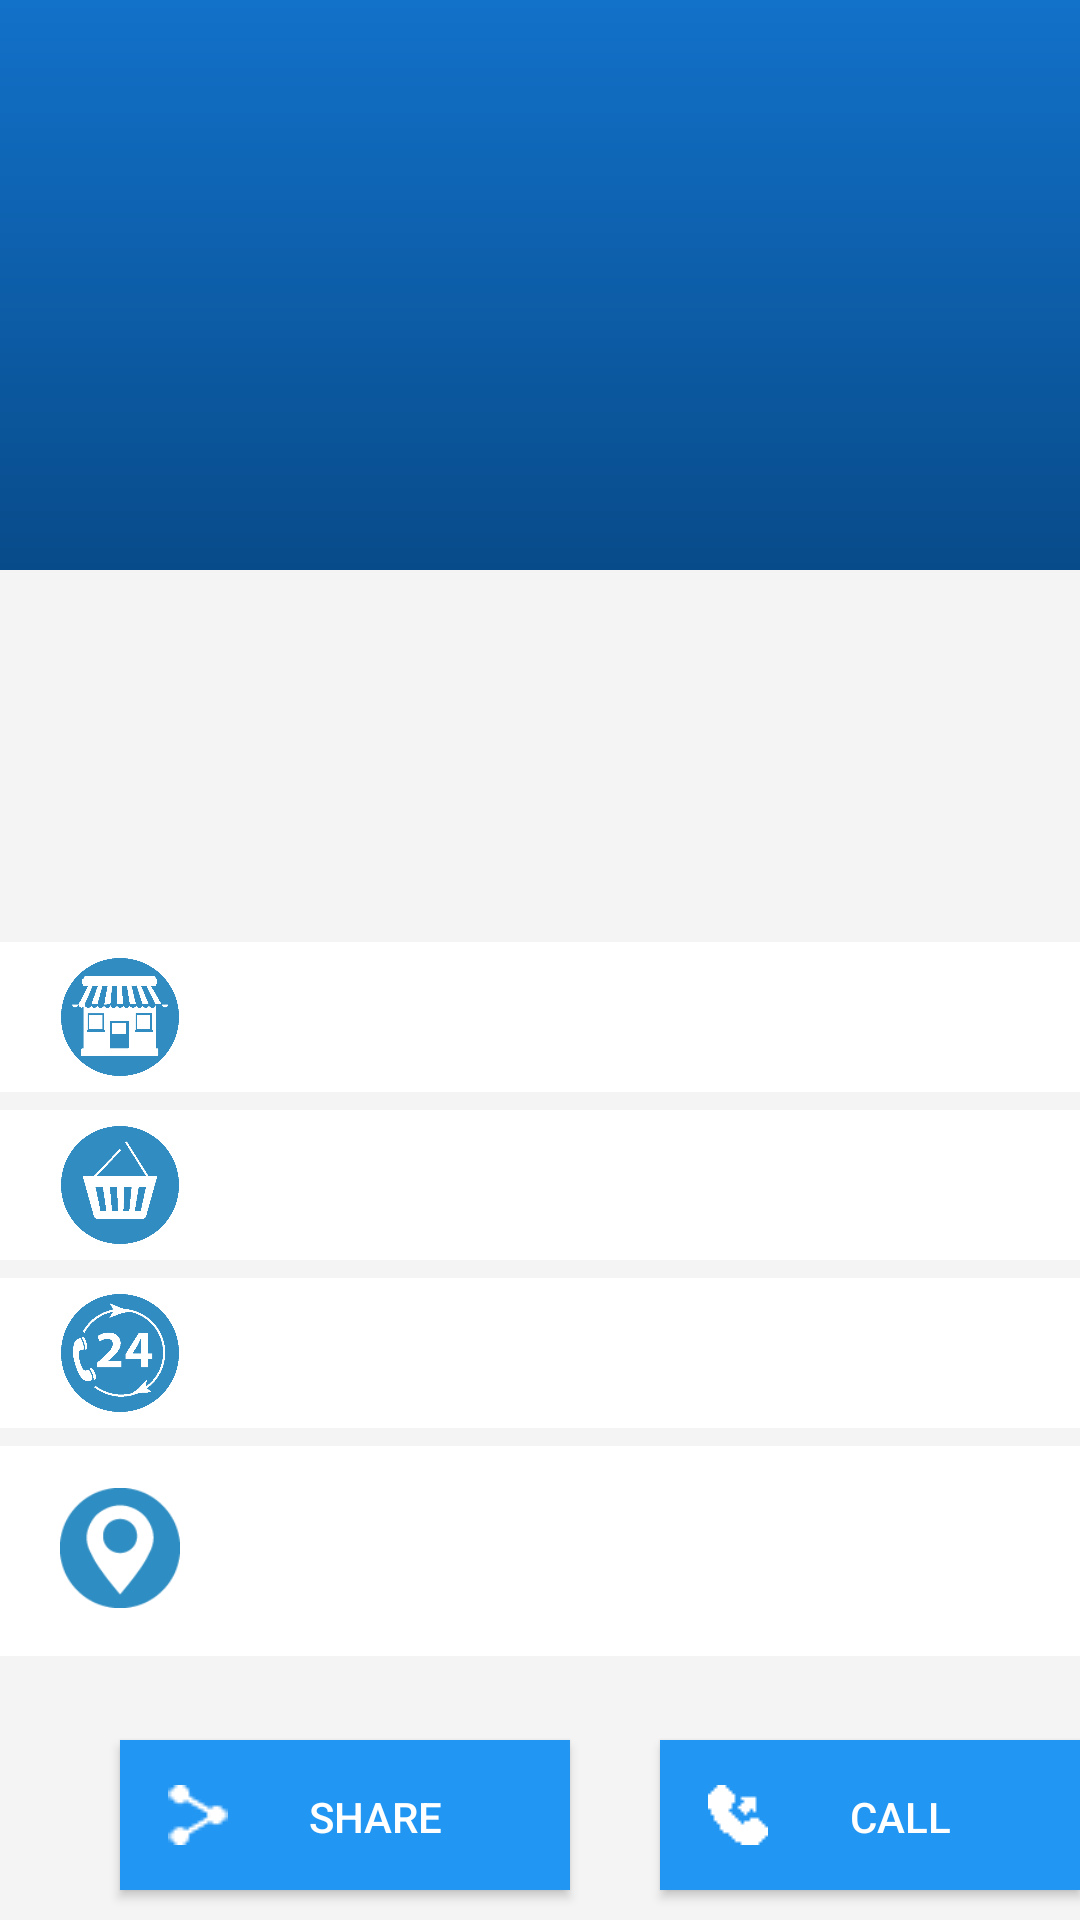

Named icons in this screenshot (1080w x 1920h) and their bounding boxes, rect(x1, y1, x2, y2):
loc: rect(60, 1488, 180, 1608)
phone: rect(61, 1294, 179, 1412)
shop: rect(61, 958, 179, 1076)
stock: rect(61, 1126, 179, 1244)
